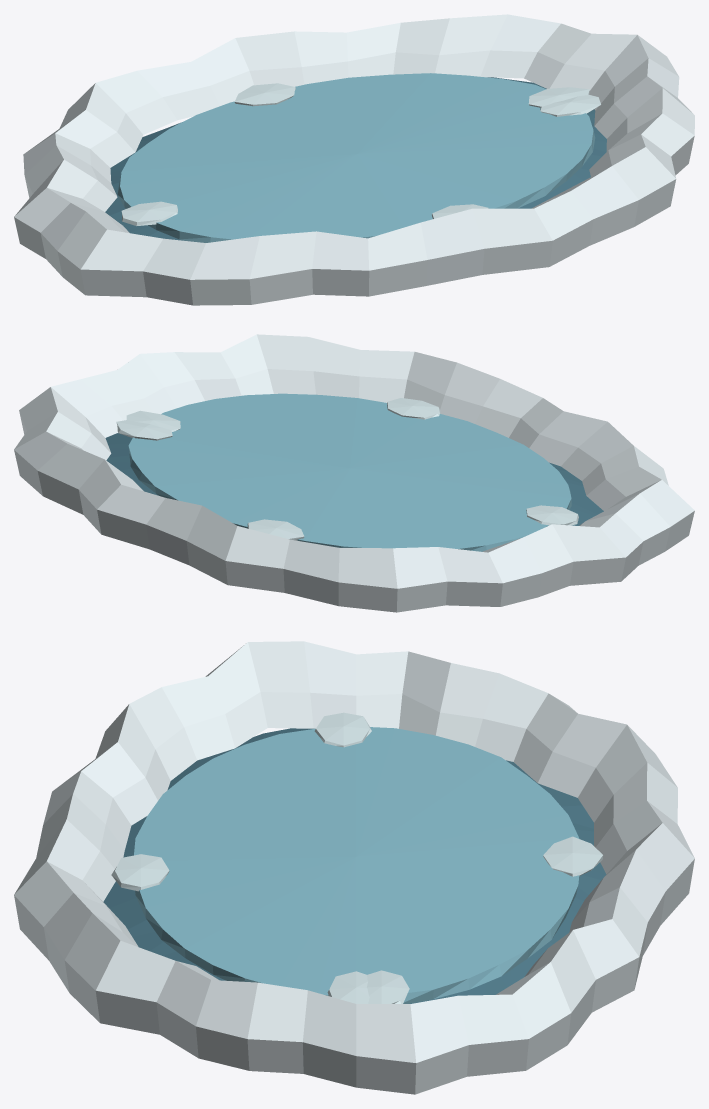
File: ICE_01_PondSmall.glb
The picture shows the model from 3 angles, top to bottom: view 1: azimuth 30°, elevation 25°; view 2: azimuth 150°, elevation 25°; view 3: azimuth 270°, elevation 25°; orthographic projection. The views are drawn at different scales.
Parts seen in each view (by area): view 1: ICE_01_PondSmall; view 2: ICE_01_PondSmall; view 3: ICE_01_PondSmall.
Part boxes in pixels (left/top/right/bottom): ICE_01_PondSmall: left=14, top=14, right=694, bottom=305; ICE_01_PondSmall: left=14, top=334, right=694, bottom=612; ICE_01_PondSmall: left=14, top=641, right=694, bottom=1094.
Bounding box in the file's own units: 4.7 × 0.545 × 3.35.
